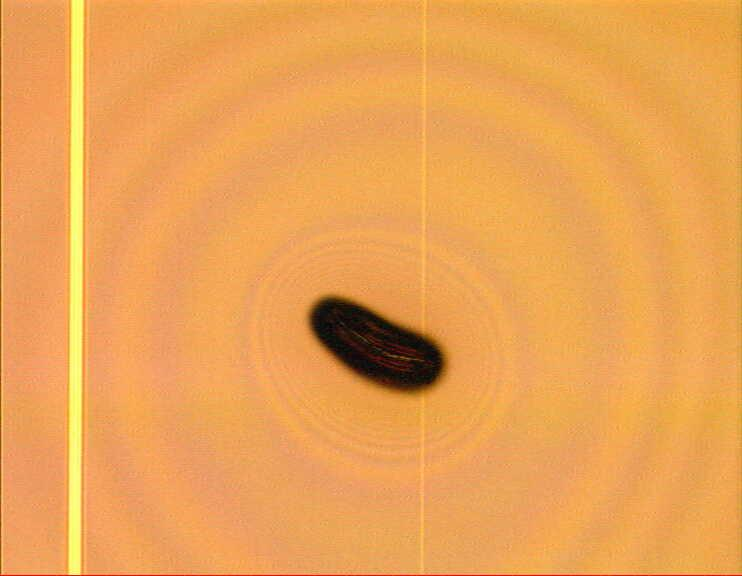PIQ PARTICLE: (304, 288, 451, 399)
